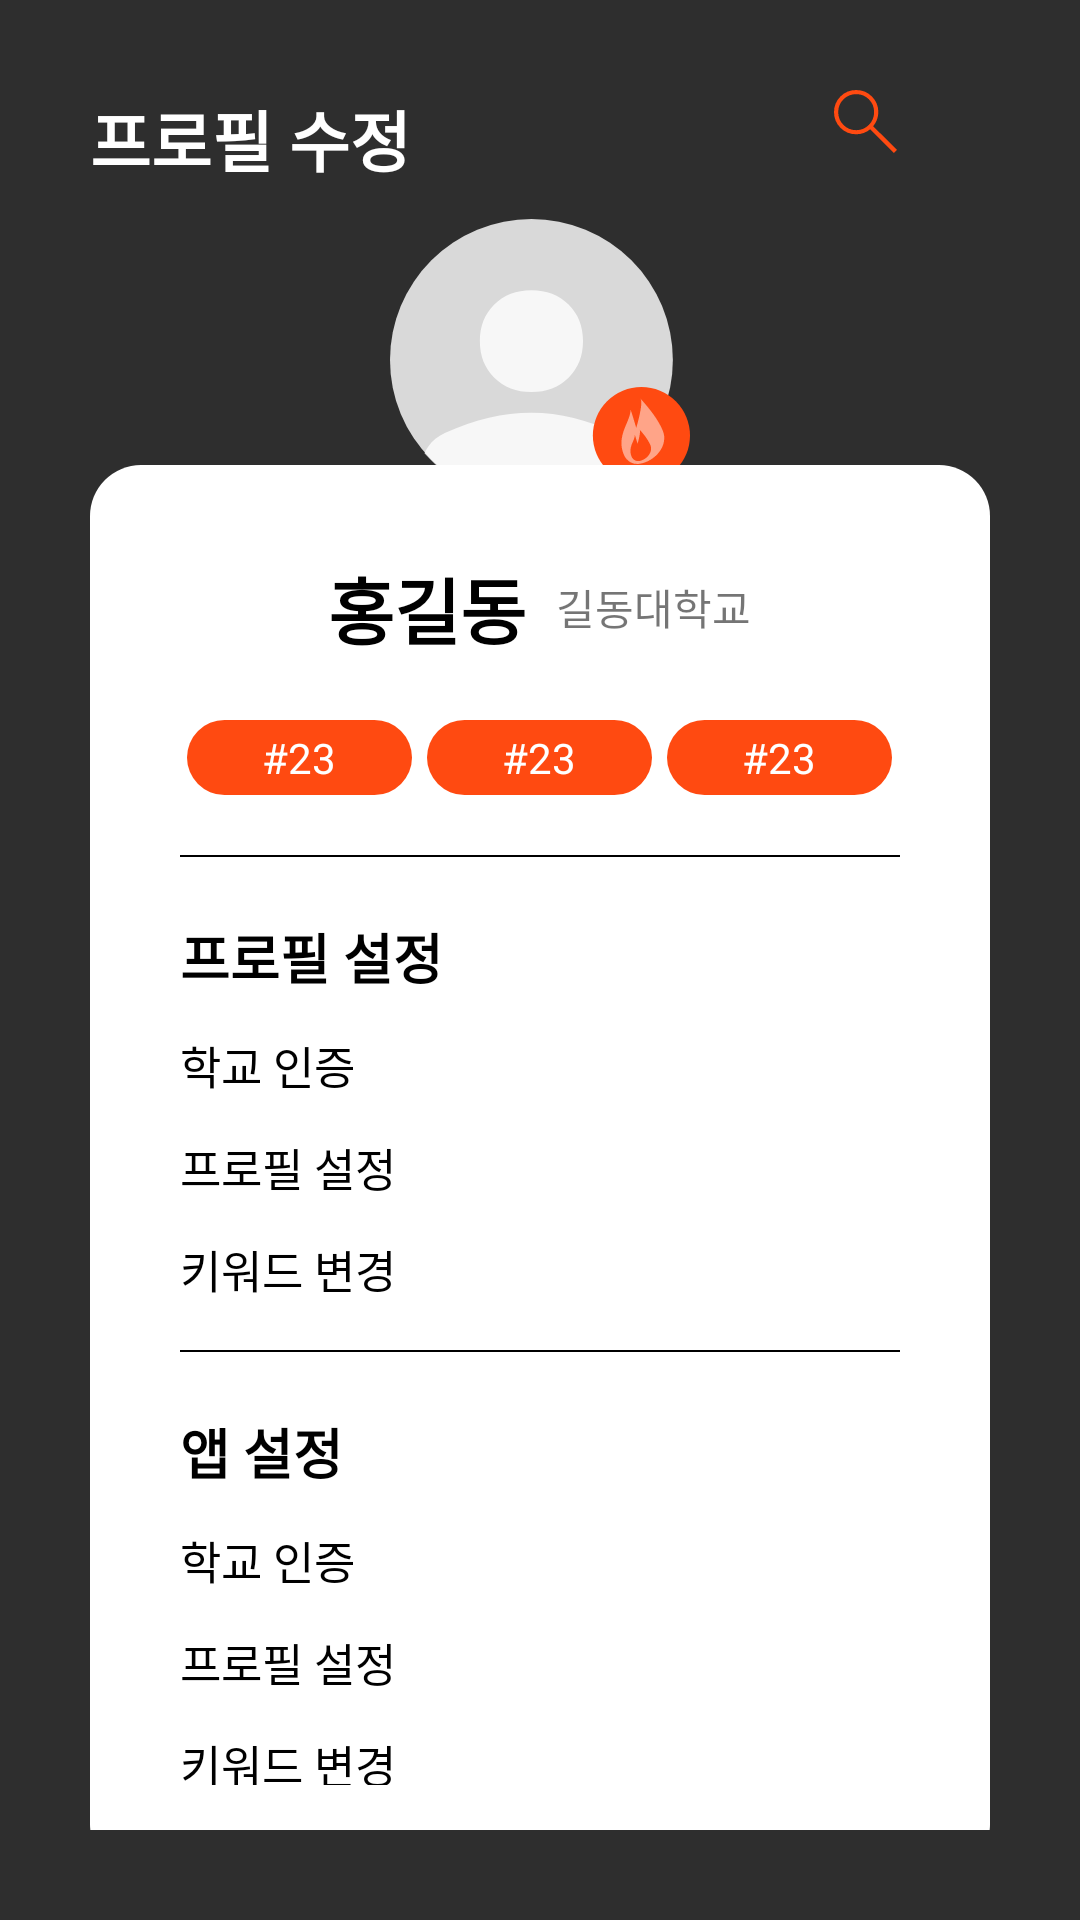

Where to tap for icons on this 1080w x 1920h app screen, as point (x, y):
glass: point (865, 121)
profile: point (540, 364)
